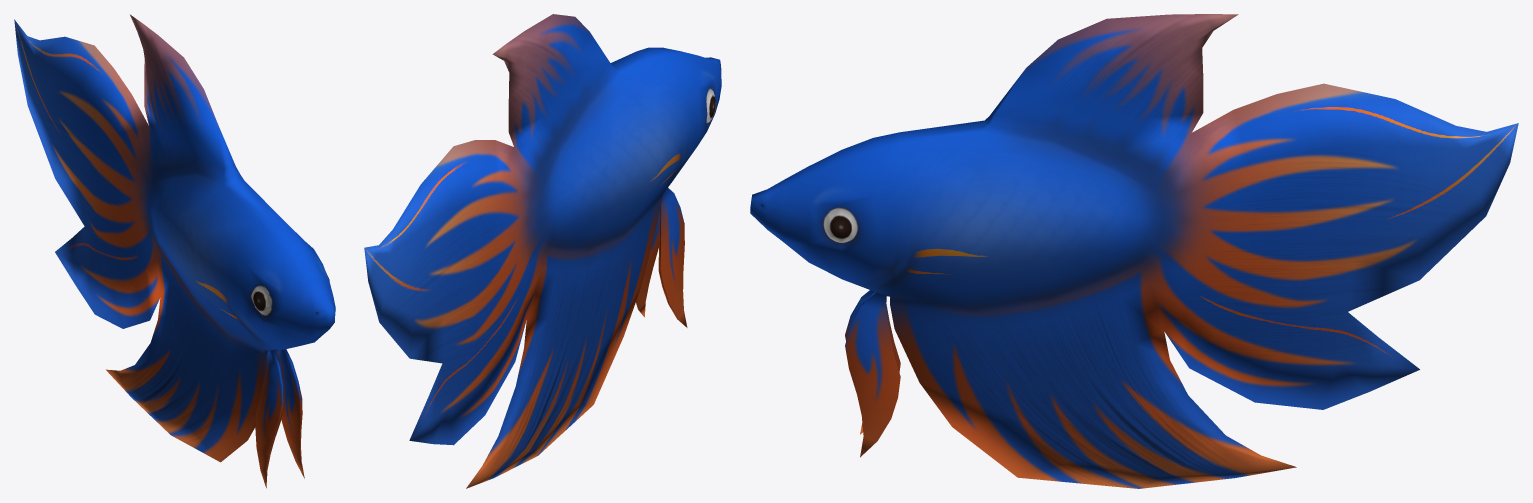
Rendered from FightFish.FBX.
The picture shows the model from 3 angles, left to right: view 1: azimuth 30°, elevation 25°; view 2: azimuth 150°, elevation 25°; view 3: azimuth 270°, elevation 25°; orthographic projection. The views are drawn at different scales.
Visible parts, largest first — view 1: Cylinder001; view 2: Cylinder001; view 3: Cylinder001.
Boxes of the visible parts, x1,y1,x2,y2 form: Cylinder001: [14, 14, 335, 488]; Cylinder001: [364, 14, 721, 488]; Cylinder001: [750, 14, 1518, 488].
Size of the model in its own units: 1.5 by 6.71 by 9.83.
